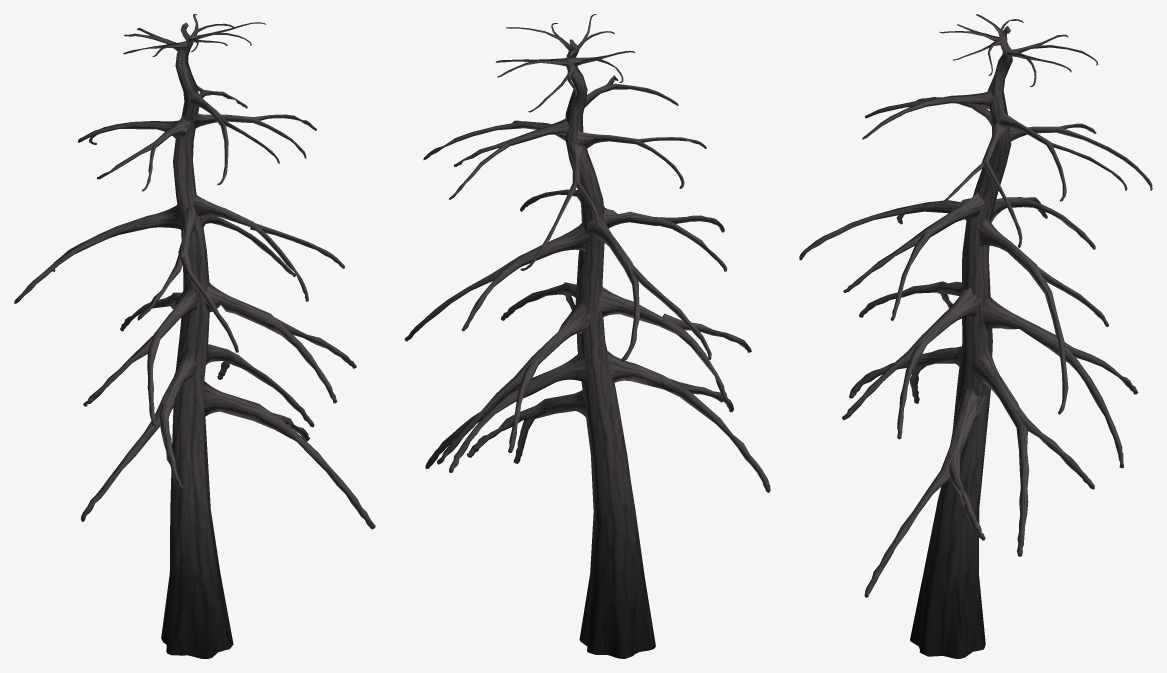
Rendered from DeadTree_5.glb.
3 views of the same model, side by side, from view 1: azimuth 30°, elevation 25°; view 2: azimuth 150°, elevation 25°; view 3: azimuth 270°, elevation 25° (orthographic). The views are drawn at different scales.
Parts seen in each view (by area): view 1: DeadTree_5; view 2: DeadTree_5; view 3: DeadTree_5.
Part boxes in pixels (x1,y1,x2,y2): DeadTree_5: (14, 14, 375, 658); DeadTree_5: (404, 14, 770, 658); DeadTree_5: (799, 14, 1152, 658).
Bounding box in the file's own units: 8.36 × 16.44 × 8.41.
1 material, 1 textured.
